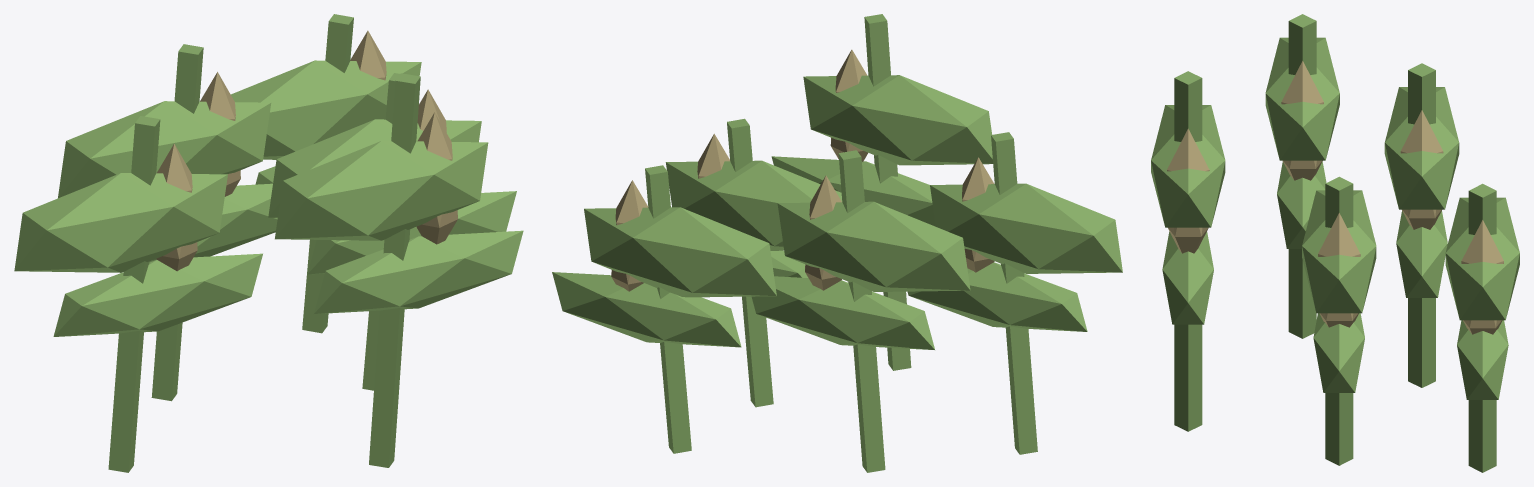
Rendered from crop_lentil_ripe.glb.
3 views of the same model, side by side, from view 1: azimuth 30°, elevation 25°; view 2: azimuth 150°, elevation 25°; view 3: azimuth 270°, elevation 25° (orthographic). The views are drawn at different scales.
Parts seen in each view (by area): view 1: crop_lentil_ripe; view 2: crop_lentil_ripe; view 3: crop_lentil_ripe.
Boxes of the visible parts, x1=… form: crop_lentil_ripe: x1=14, y1=14, x2=523, y2=472; crop_lentil_ripe: x1=552, y1=14, x2=1122, y2=472; crop_lentil_ripe: x1=1151, y1=14, x2=1519, y2=472.
Size of the model in its own units: 0.506 by 0.342 by 0.3163.
